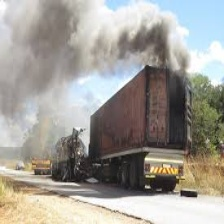smoke: (1, 1, 196, 82)
